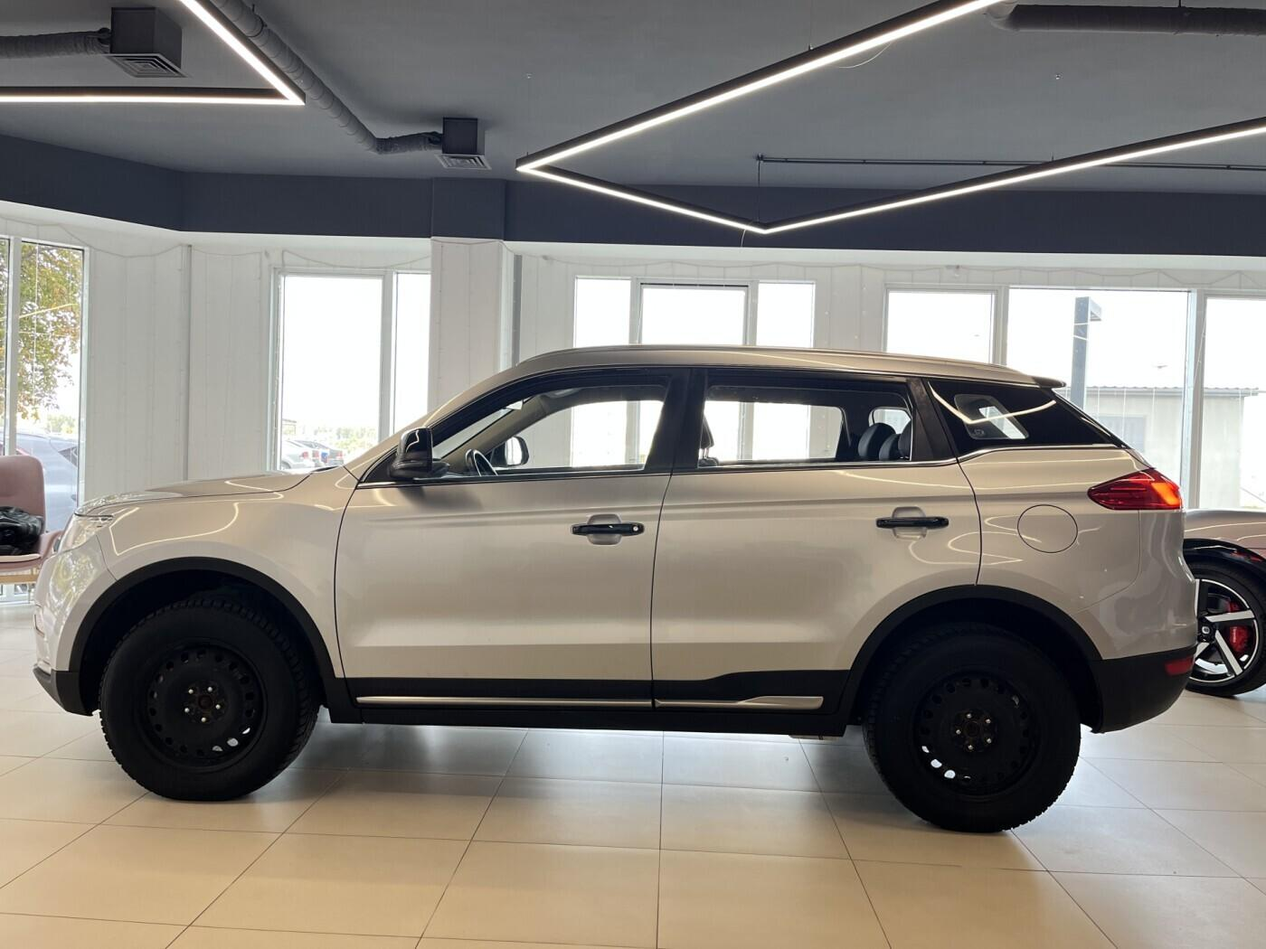Atlas_2016-2023: (25, 337, 1198, 844)
